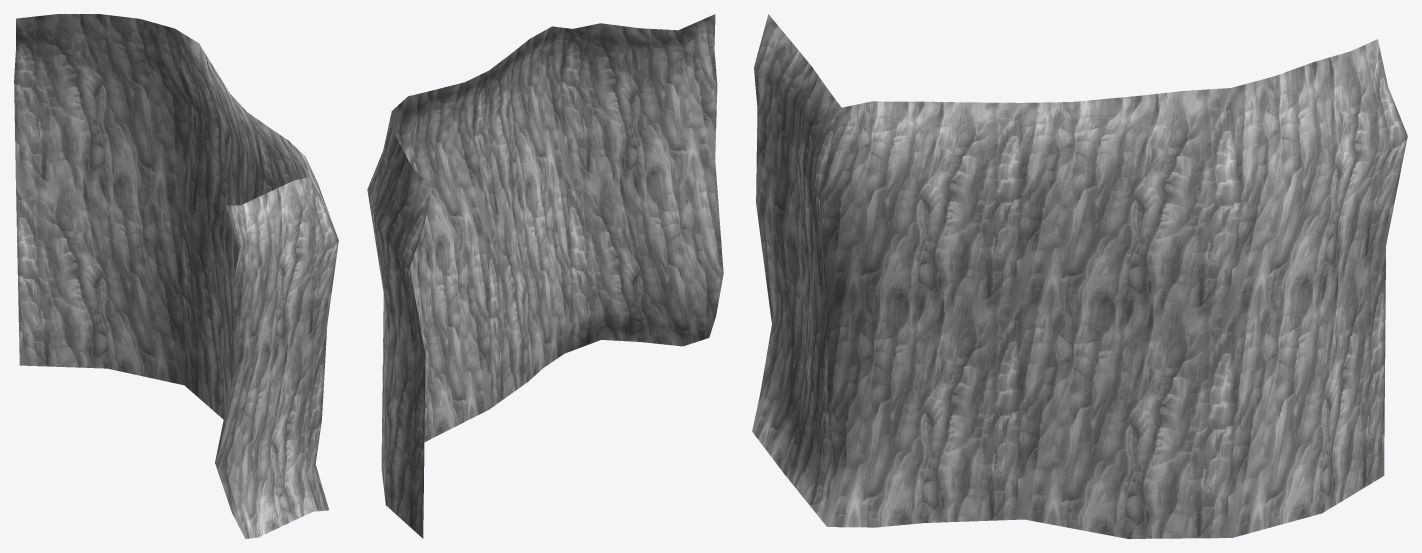
The model's file is SWORDLIGHT20_PS-AREA03_70.fbx.
3 renders of one model, left to right at view 1: azimuth 30°, elevation 25°; view 2: azimuth 150°, elevation 25°; view 3: azimuth 270°, elevation 25°, orthographic. The views are drawn at different scales.
Visible parts, largest first — view 1: SWORDLIGHT20_PS-AREA03_70; view 2: SWORDLIGHT20_PS-AREA03_70; view 3: SWORDLIGHT20_PS-AREA03_70.
Boxes of the visible parts, x1=… form: SWORDLIGHT20_PS-AREA03_70: x1=14, y1=14, x2=338, y2=538; SWORDLIGHT20_PS-AREA03_70: x1=367, y1=14, x2=723, y2=538; SWORDLIGHT20_PS-AREA03_70: x1=752, y1=14, x2=1407, y2=538.
Bounding box in the file's own units: 75263 × 156888 × 207908.
Materials: 1 (1 with a texture image).
